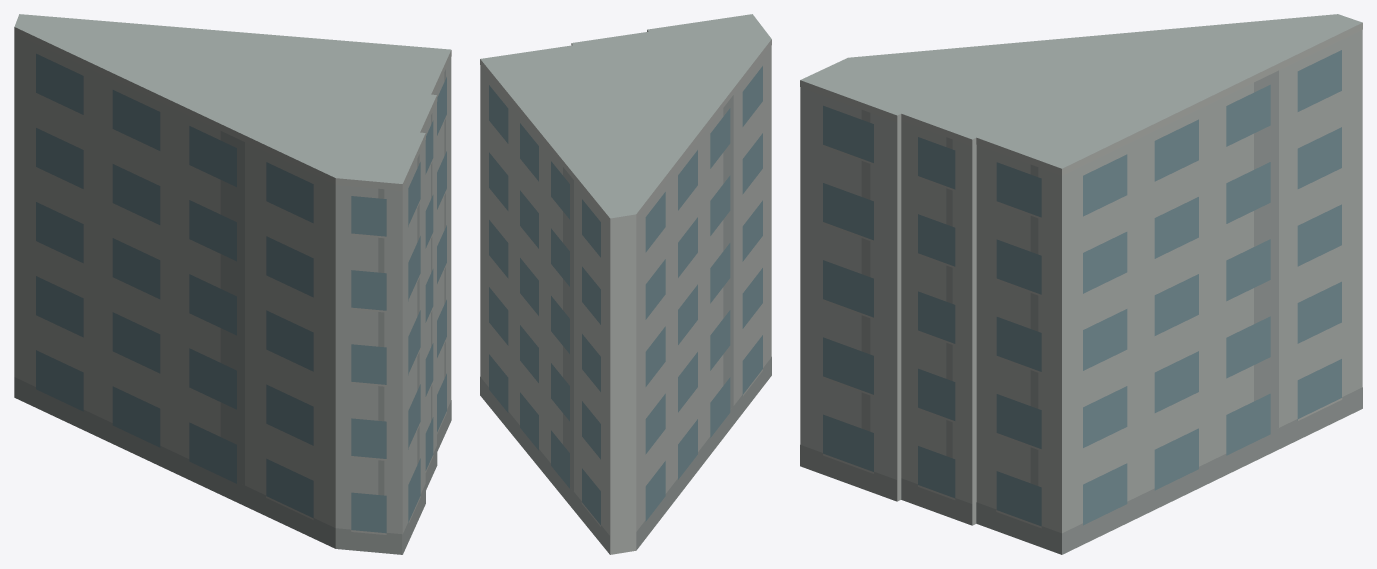
Rendered from survey-upis-33011456.glb.
3 renders of one model, left to right at view 1: azimuth 30°, elevation 25°; view 2: azimuth 150°, elevation 25°; view 3: azimuth 270°, elevation 25°, orthographic. The views are drawn at different scales.
Parts seen in each view (by area): view 1: survey-upis-33011456.tmp; view 2: survey-upis-33011456.tmp; view 3: survey-upis-33011456.tmp.
Part boxes in pixels (x1,y1,x2,y2): survey-upis-33011456.tmp: (14, 14, 451, 554); survey-upis-33011456.tmp: (480, 14, 771, 554); survey-upis-33011456.tmp: (800, 14, 1362, 554).
Size of the model in its own units: 11.53 by 13.4 by 17.71.
